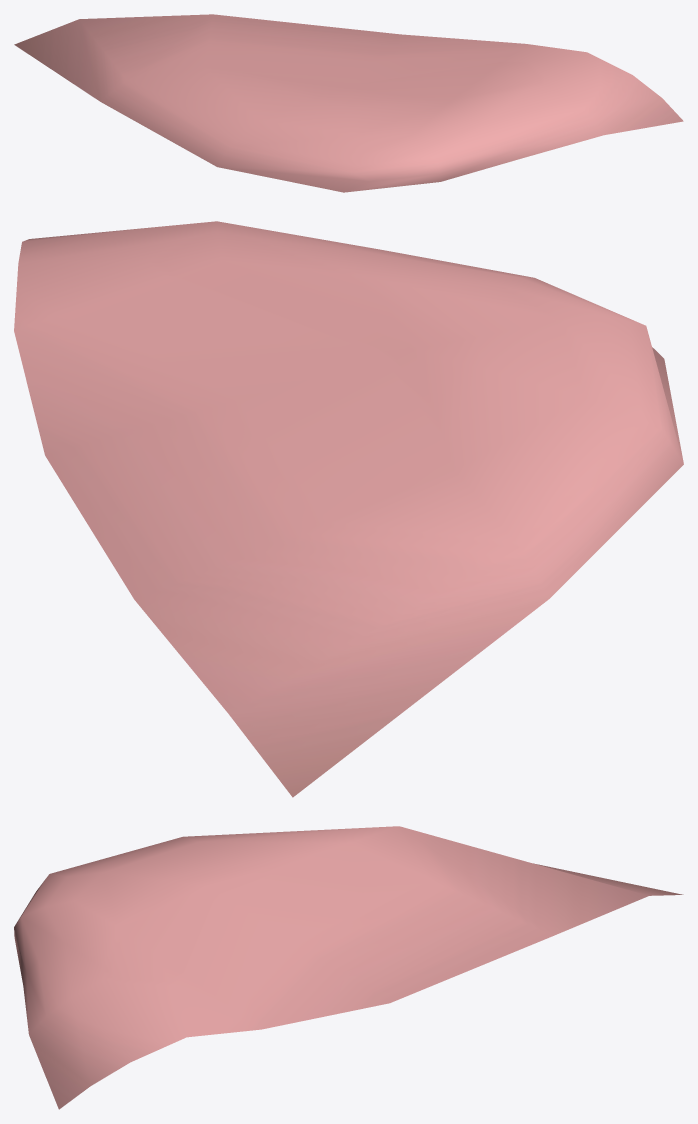
Rendered from moss3.fbx.
The picture shows the model from 3 angles, top to bottom: view 1: azimuth 30°, elevation 25°; view 2: azimuth 150°, elevation 25°; view 3: azimuth 270°, elevation 25°; orthographic projection. The views are drawn at different scales.
Parts seen in each view (by area): view 1: moss3; view 2: moss3; view 3: moss3.
Boxes of the visible parts, x1,y1,x2,y2 form: moss3: (14, 14, 683, 192); moss3: (14, 221, 683, 797); moss3: (14, 826, 683, 1109).
Size of the model in its own units: 0.151 by 0.0251 by 0.1698.
1 material, 1 textured.
